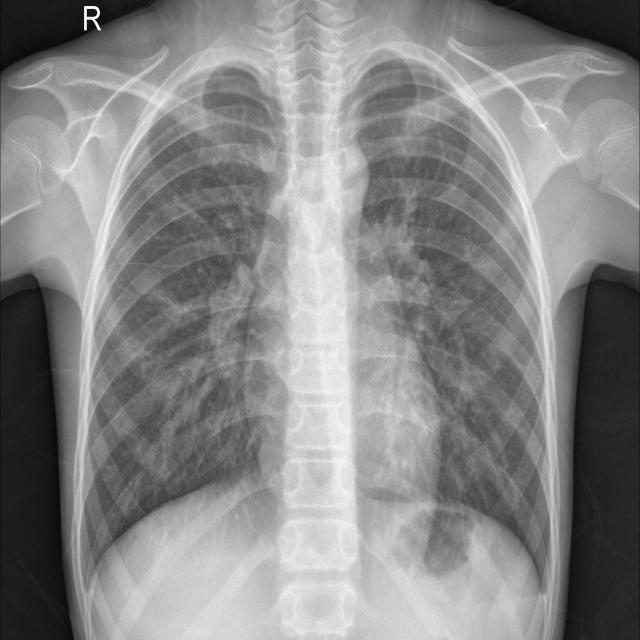no-pneumonia: (360, 64, 551, 573), (84, 67, 273, 562)
